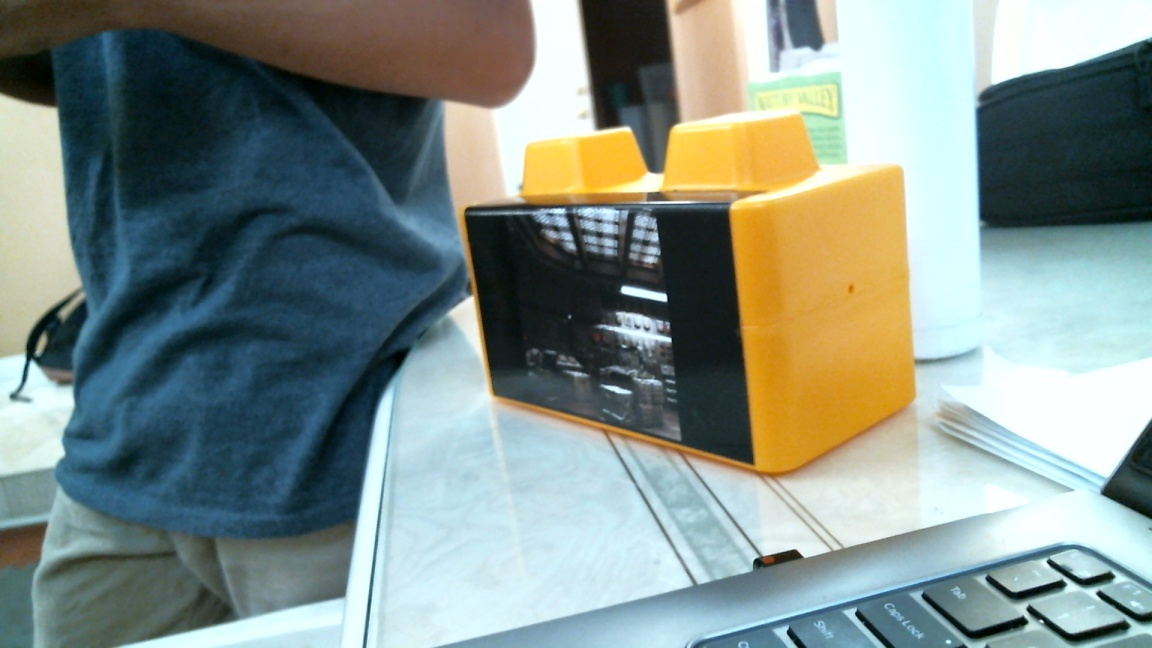skystone: (458, 116, 923, 474)
